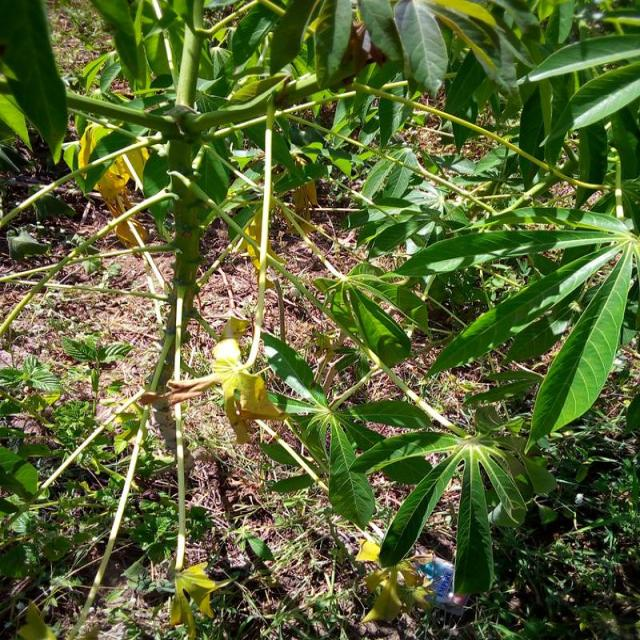cassava leaf: (523, 239, 634, 454)
